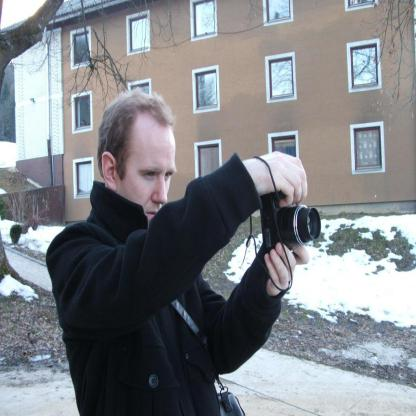Camera: (257, 194, 320, 275)
